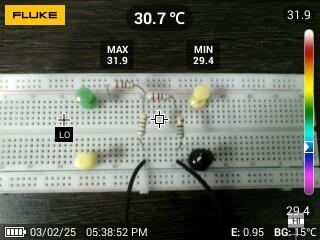resistor: (172, 113, 187, 141), (108, 78, 138, 91), (143, 91, 174, 103), (137, 111, 148, 141)
